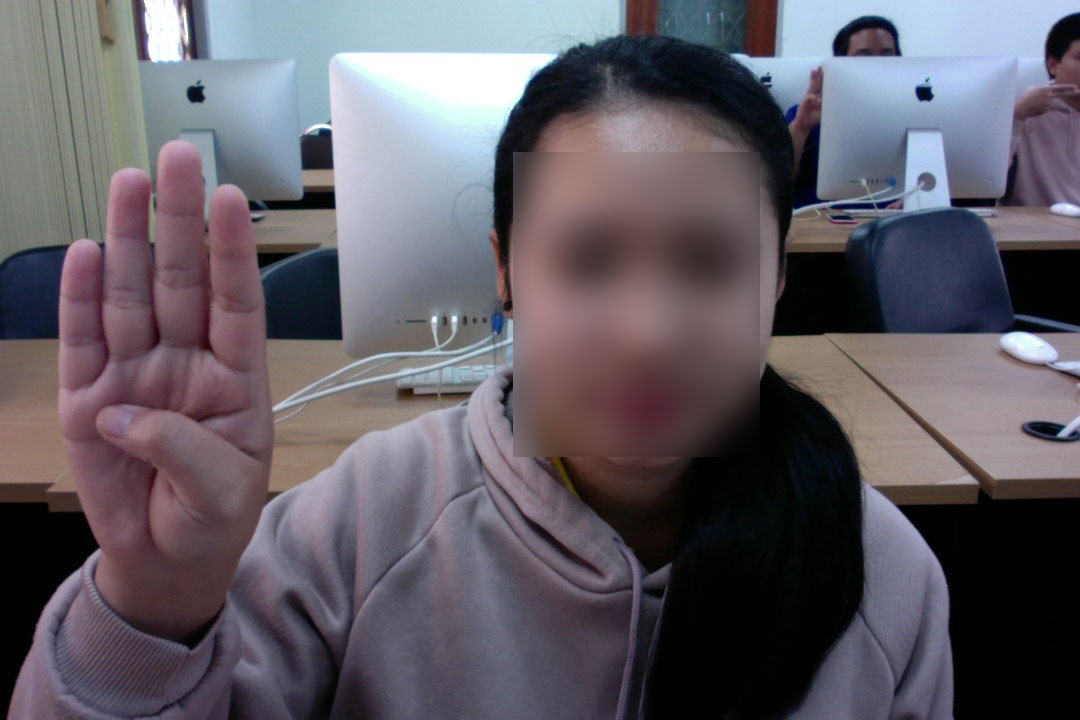bor: (43, 131, 276, 645)
